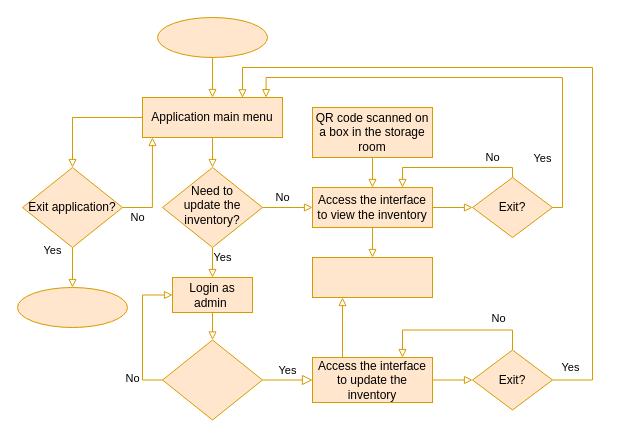
Image size: 618x438. Some labels were removed from this diagram. The centre of each missing label's shape, as x and y in pixels:
"Admin user?" goes at (x=212, y=379).
"Application ends" goes at (x=72, y=307).
"Application initiated" goes at (x=212, y=37).
"Database" goes at (x=372, y=277).
